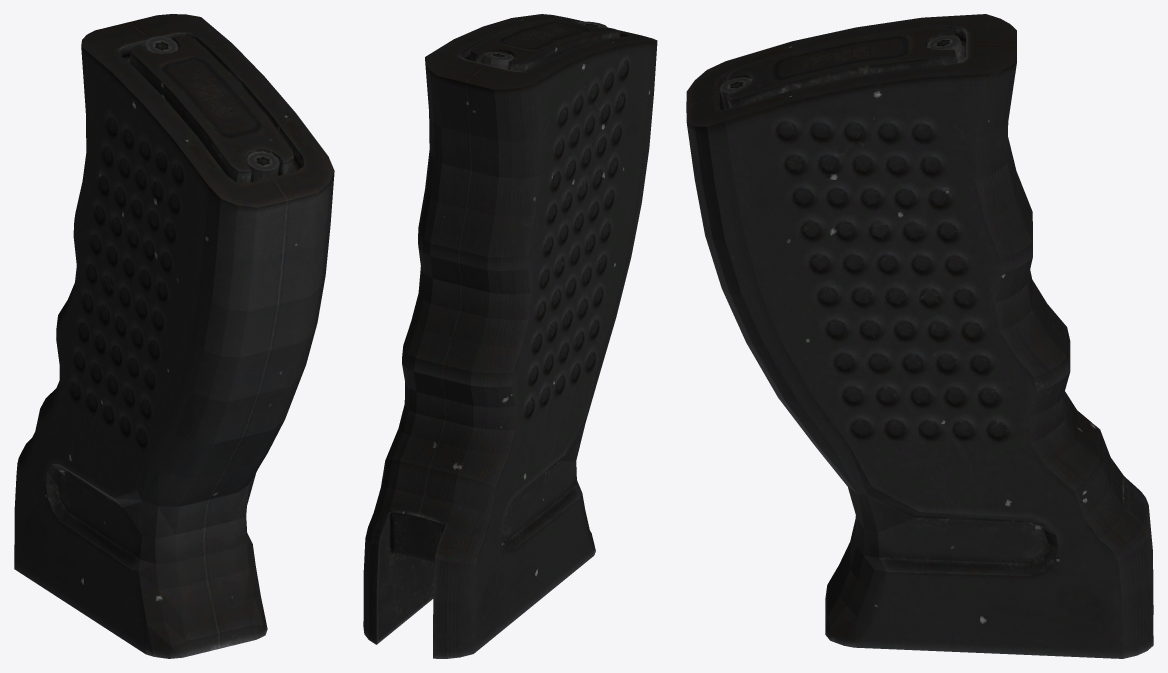
The picture shows the model from 3 angles, left to right: view 1: azimuth 30°, elevation 25°; view 2: azimuth 150°, elevation 25°; view 3: azimuth 270°, elevation 25°; orthographic projection. The views are drawn at different scales.
Parts seen in each view (by area): view 1: TW_5649ae4a4bdc2d1b2b8b4588_PZ_Import; view 2: TW_5649ae4a4bdc2d1b2b8b4588_PZ_Import; view 3: TW_5649ae4a4bdc2d1b2b8b4588_PZ_Import.
Part boxes in pixels (bbox=[...]): TW_5649ae4a4bdc2d1b2b8b4588_PZ_Import: bbox=[14, 14, 334, 658]; TW_5649ae4a4bdc2d1b2b8b4588_PZ_Import: bbox=[363, 14, 657, 658]; TW_5649ae4a4bdc2d1b2b8b4588_PZ_Import: bbox=[686, 14, 1153, 658].
Bounding box in the file's own units: 0.0139 × 0.0457 × 0.0656.
Materials: 1 (1 with a texture image).
